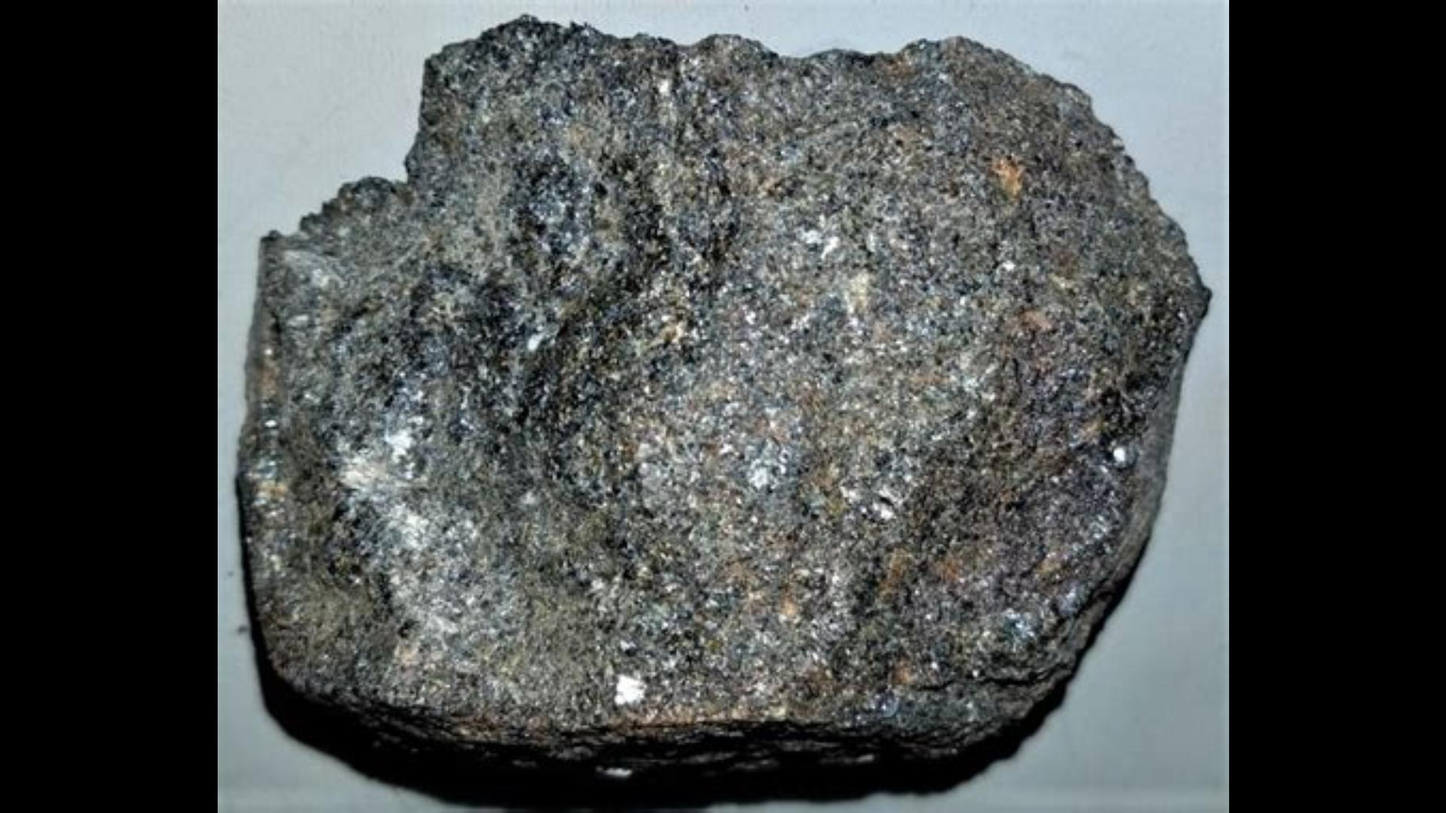rock: (238, 17, 1205, 779)
